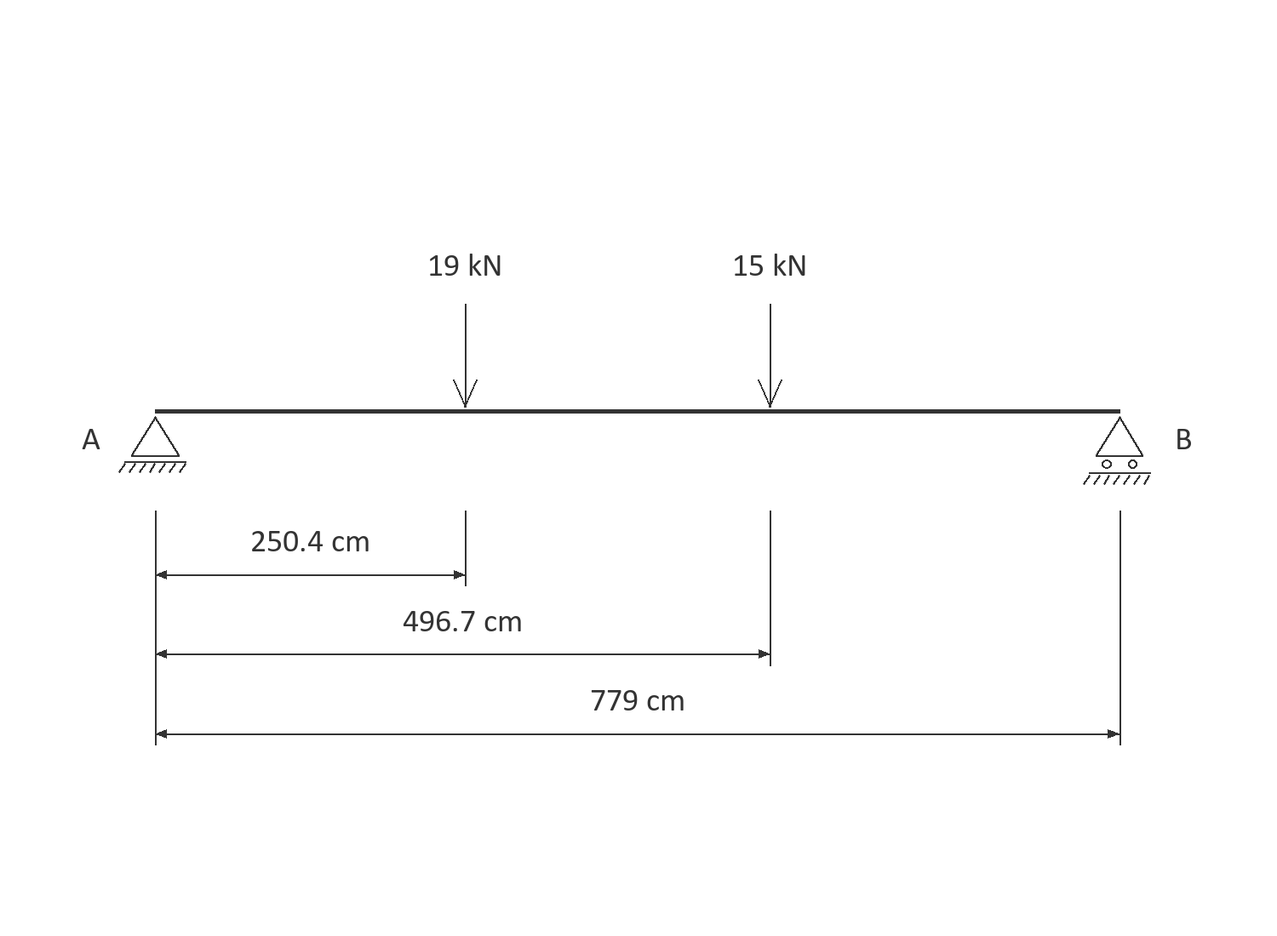pin_support: (118, 416, 186, 473)
point_load: (453, 304, 478, 408), (758, 304, 782, 408)
roller_support: (1083, 416, 1151, 485)
